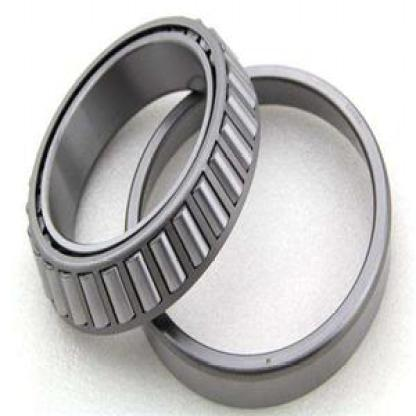FOD: (23, 13, 397, 409)
